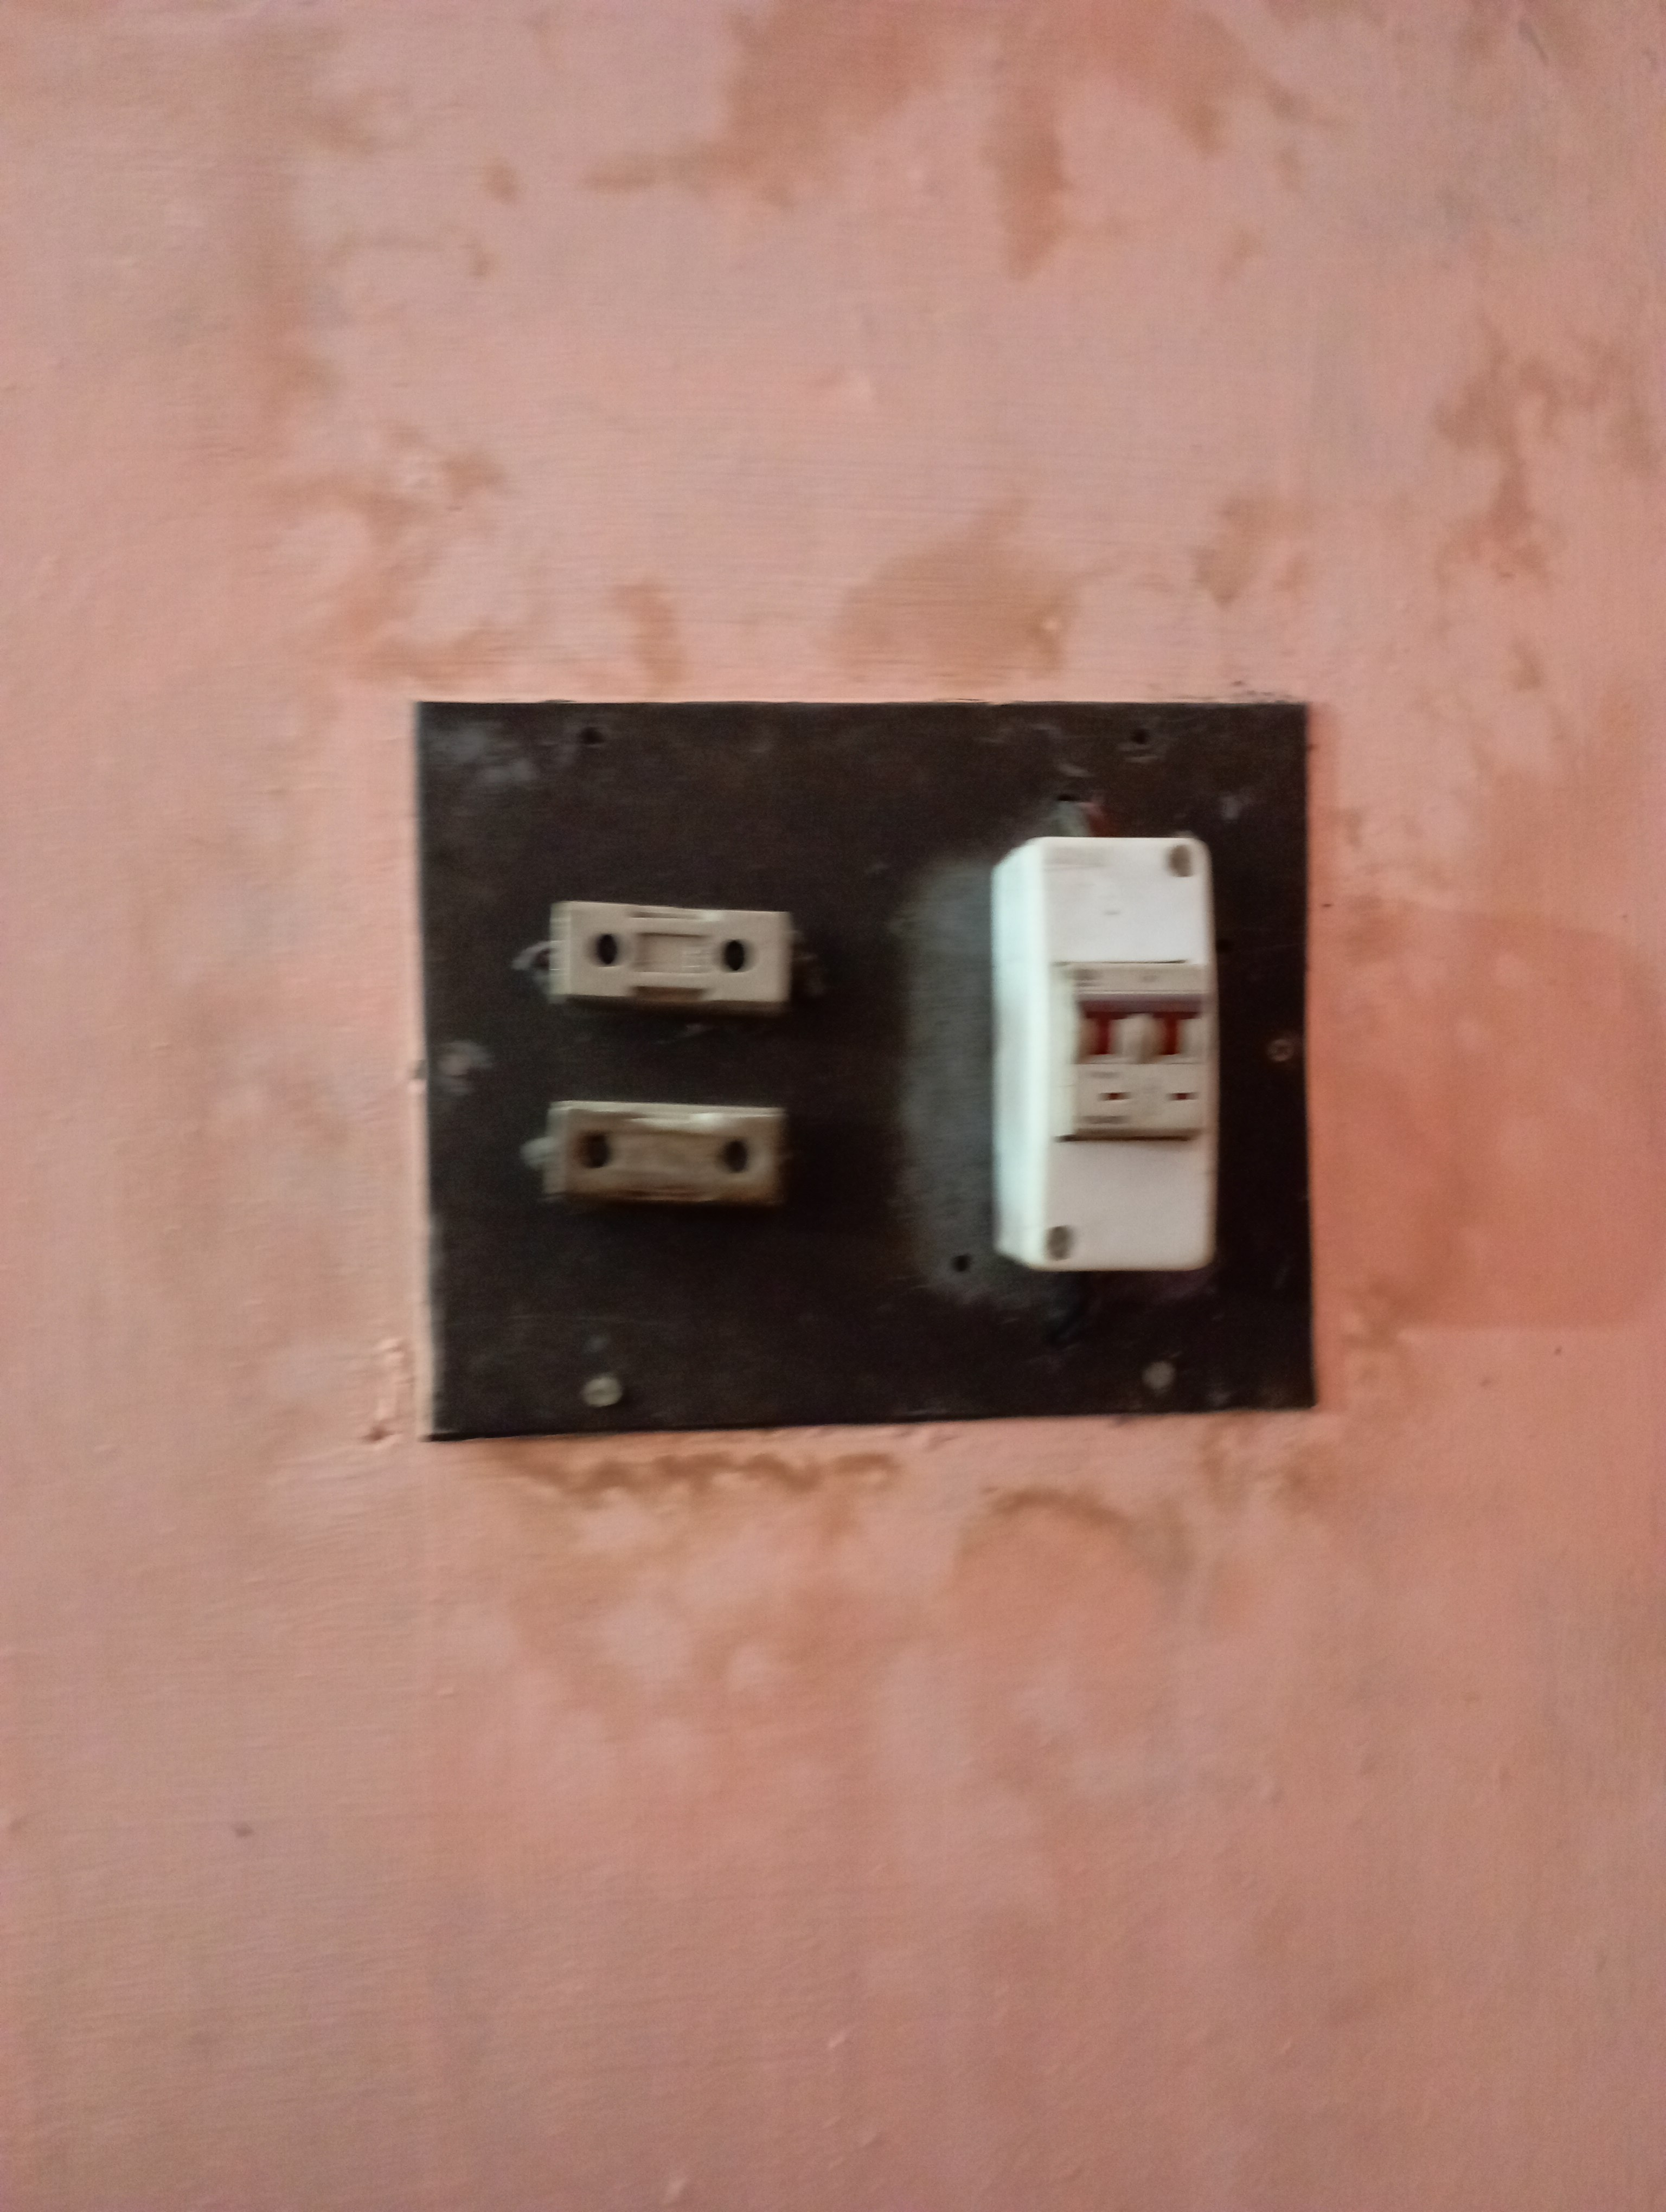ciruit_breaker: (952, 829, 1274, 1308)
fuse: (497, 1088, 842, 1221), (511, 895, 807, 1032)
